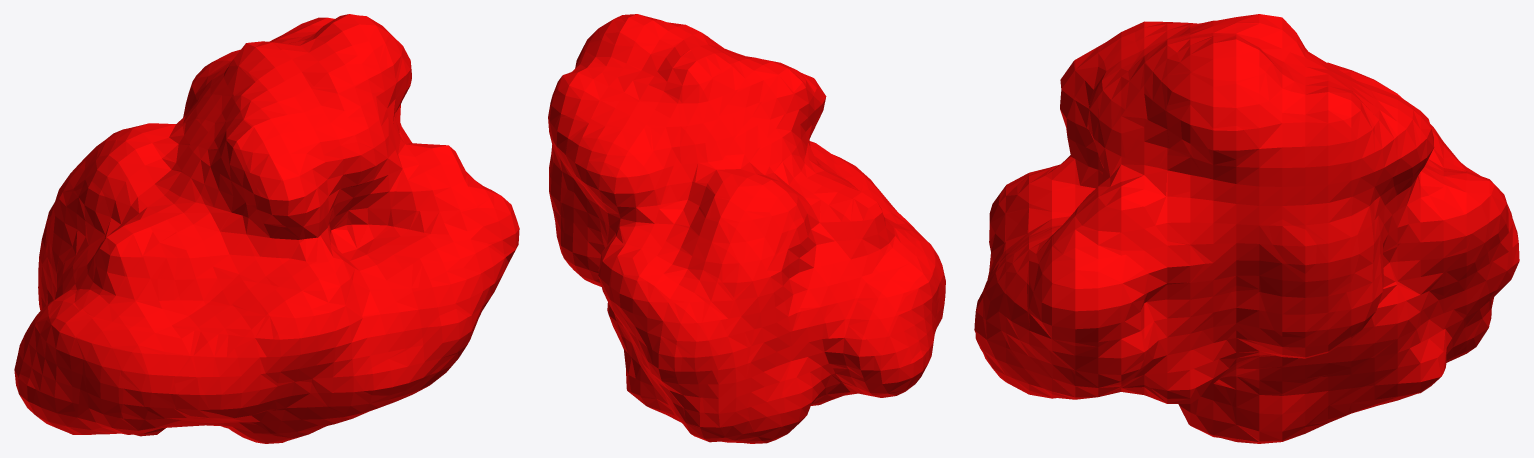
The model's file is nudK_coarse.dae.
3 views of the same model, side by side, from view 1: azimuth 30°, elevation 25°; view 2: azimuth 150°, elevation 25°; view 3: azimuth 270°, elevation 25° (orthographic). The views are drawn at different scales.
Visible parts, largest first — view 1: nudK; view 2: nudK; view 3: nudK.
Part boxes in pixels (x1,y1,x2,y2): nudK: (14, 14, 519, 443); nudK: (548, 14, 945, 443); nudK: (974, 14, 1519, 443).
Bounding box in the file's own units: 64.42 × 56.32 × 60.61.
